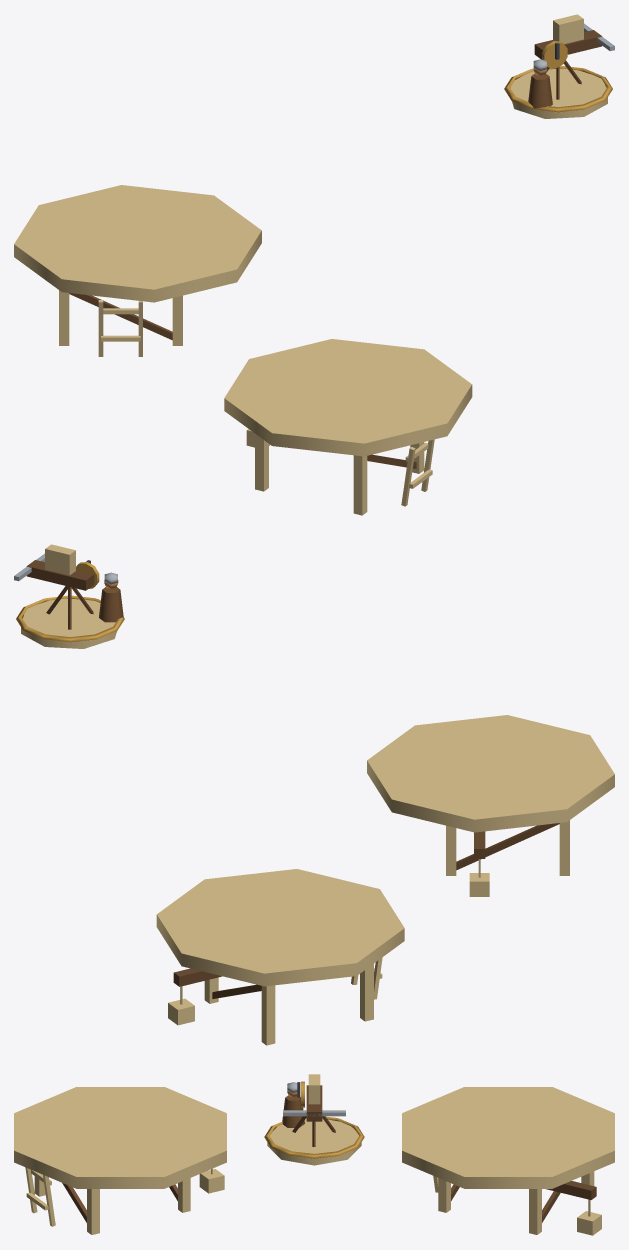
File: base_builder_weapon_1.glb
3 renders of one model, top to bottom at view 1: azimuth 30°, elevation 25°; view 2: azimuth 150°, elevation 25°; view 3: azimuth 270°, elevation 25°, orthographic. The views are drawn at different scales.
Visible parts, largest first — view 1: tower_slot_2_plate, tower_slot_1_plate, weapon_mount, weapon_mount_ring, tower_slot_2_leg_1, repeater_magazine, tower_slot_2_leg_0, engineer_body, tower_slot_1_brace_r, repeater_stock; view 2: tower_slot_1_plate, tower_slot_2_plate, weapon_mount, repeater_stock, weapon_mount_ring, tower_slot_1_leg_0, repeater_magazine, tower_slot_2_brace_l, engineer_body, tower_slot_1_leg_1; view 3: tower_slot_1_plate, tower_slot_2_plate, weapon_mount, weapon_mount_ring, tower_slot_1_leg_2, tower_slot_2_leg_3, tower_slot_1_hoist_arm, tower_slot_2_hoist_load, tower_slot_1_hoist_load, engineer_body, repeater_stock, tower_slot_1_leg_3 (+5 smaller).
Boxes of the visible parts, box(x1,y1,x2,y2) form: tower_slot_2_plate: box(224, 339, 472, 456); tower_slot_1_plate: box(14, 185, 261, 302); weapon_mount: box(510, 68, 607, 118); weapon_mount_ring: box(504, 65, 612, 112); tower_slot_2_leg_1: box(353, 455, 367, 515); repeater_magazine: box(553, 14, 583, 44); tower_slot_2_leg_0: box(255, 434, 268, 491); engineer_body: box(528, 73, 552, 108); tower_slot_1_brace_r: box(69, 293, 172, 340); repeater_stock: box(534, 30, 602, 59); tower_slot_1_plate: box(156, 869, 404, 986); tower_slot_2_plate: box(367, 715, 614, 832); weapon_mount: box(21, 598, 116, 648); repeater_stock: box(26, 560, 94, 590); weapon_mount_ring: box(16, 595, 124, 642); tower_slot_1_leg_0: box(261, 985, 275, 1045); repeater_magazine: box(45, 544, 75, 575); tower_slot_2_brace_l: box(456, 823, 559, 870); engineer_body: box(99, 587, 123, 622); tower_slot_1_leg_1: box(360, 964, 373, 1021); tower_slot_1_plate: box(402, 1087, 614, 1188); tower_slot_2_plate: box(14, 1087, 226, 1188); weapon_mount: box(267, 1118, 361, 1165); weapon_mount_ring: box(264, 1116, 364, 1158); tower_slot_1_leg_2: box(529, 1189, 541, 1234); tower_slot_2_leg_3: box(87, 1189, 99, 1234); tower_slot_1_hoist_arm: box(546, 1181, 596, 1199); tower_slot_2_hoist_load: box(199, 1169, 224, 1193); tower_slot_1_hoist_load: box(577, 1211, 601, 1235); engineer_body: box(282, 1095, 304, 1127); repeater_stock: box(306, 1085, 322, 1121); tower_slot_1_leg_3: box(438, 1178, 450, 1212).
Bounding box in the file's own units: 0.9403 × 0.578 × 1.15.
